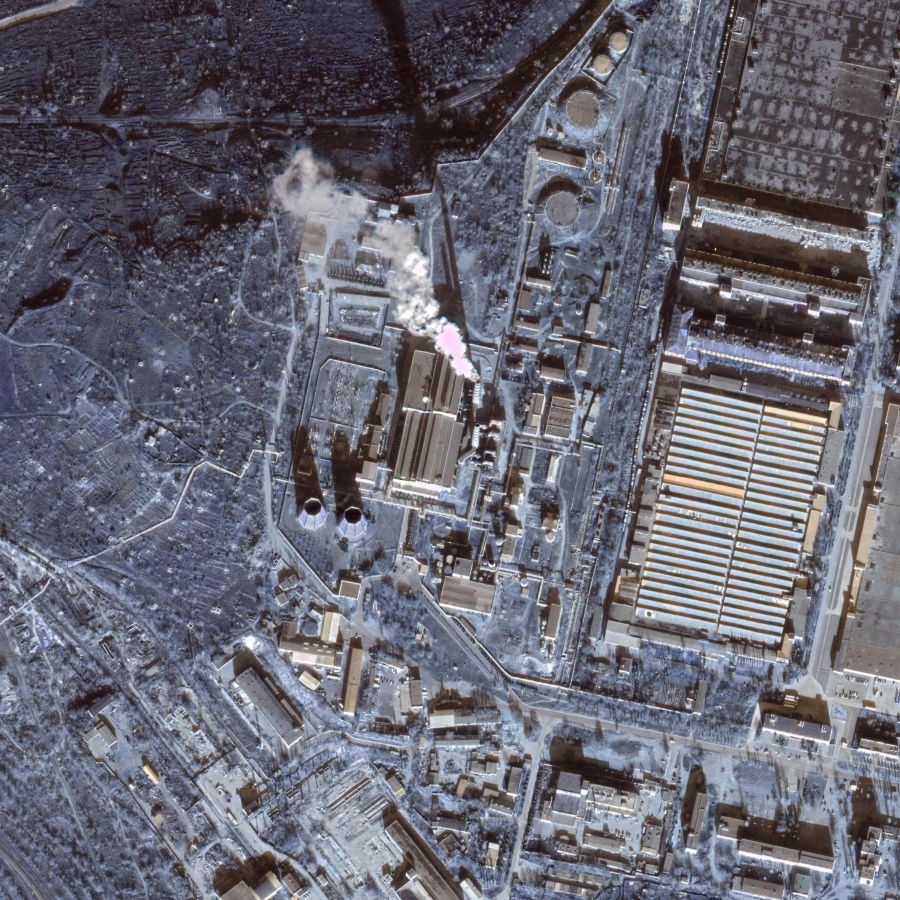PowerPlant: (284, 291, 507, 552)
